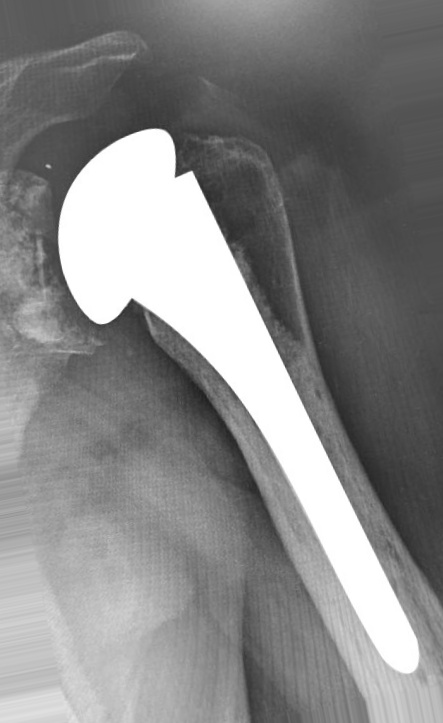Shoulder - Anotomyhead - Stryker: (49, 123, 228, 333)
Shoulder - Anotomytail - Stryker: (106, 160, 298, 412)
